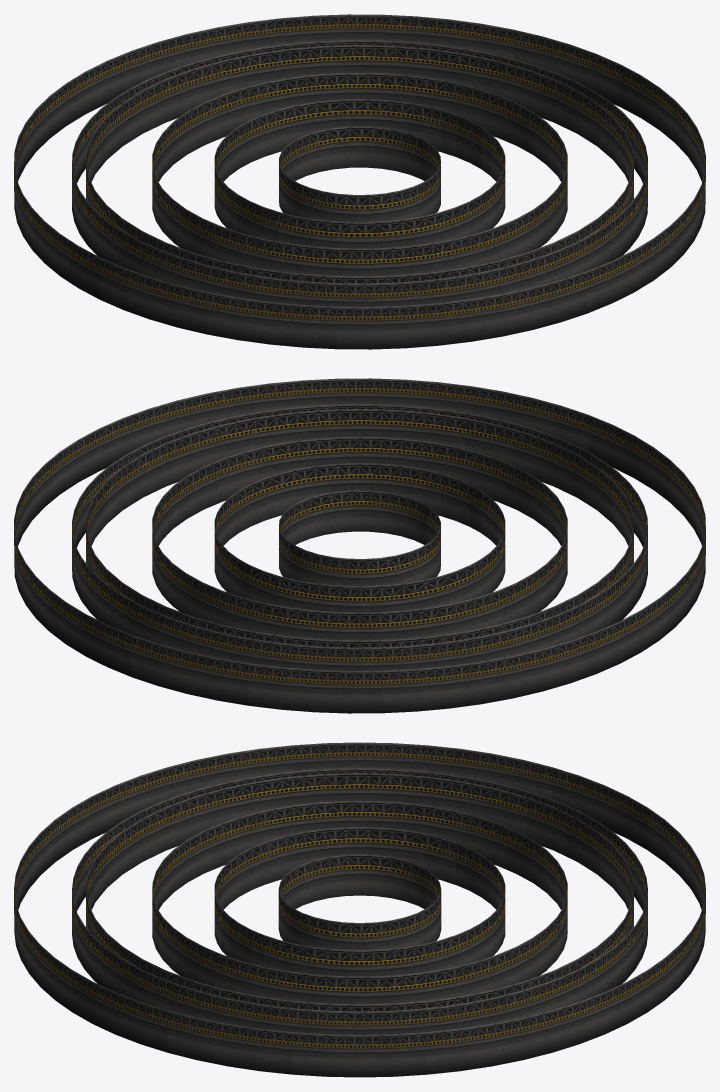
The model's file is 圆盘底座.FBX.
The picture shows the model from 3 angles, top to bottom: view 1: azimuth 30°, elevation 25°; view 2: azimuth 150°, elevation 25°; view 3: azimuth 270°, elevation 25°; orthographic projection.
Visible parts, largest first — view 1: Group001, ring_04_wall, ring_03_wall, ring_01_wall; view 2: Group001, ring_04_wall, ring_03_wall, ring_01_wall; view 3: Group001, ring_04_wall, ring_03_wall, ring_01_wall.
Boxes of the visible parts, <box> form: Group001: <box>72,40,647,306</box>; ring_04_wall: <box>14,14,705,349</box>; ring_03_wall: <box>86,45,633,283</box>; ring_01_wall: <box>214,99,505,248</box>; Group001: <box>72,404,647,670</box>; ring_04_wall: <box>14,378,705,713</box>; ring_03_wall: <box>86,409,633,647</box>; ring_01_wall: <box>214,463,505,612</box>; Group001: <box>72,768,647,1034</box>; ring_04_wall: <box>14,742,705,1077</box>; ring_03_wall: <box>86,773,633,1011</box>; ring_01_wall: <box>214,827,505,976</box>.
Bounding box in the file's own units: 5245 × 5245 × 377.
